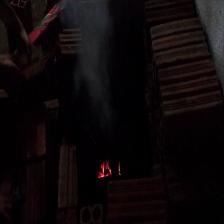fire: (95, 161, 123, 177)
smoke: (74, 7, 105, 112)
